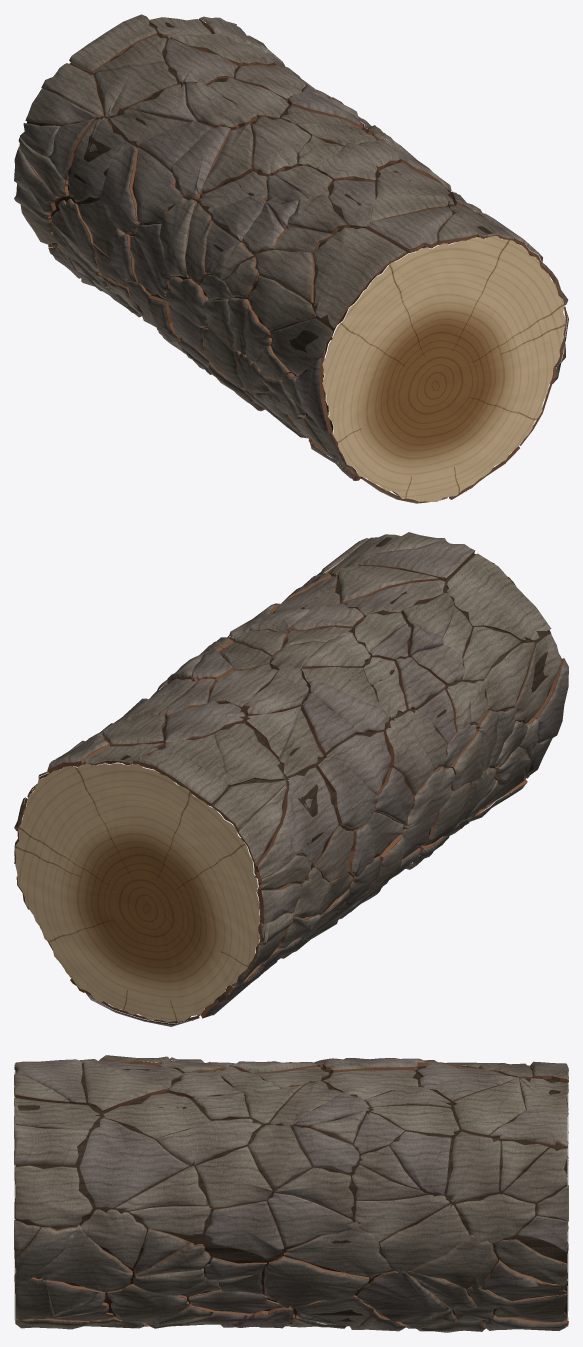
File: duskoak_log.glb
The picture shows the model from 3 angles, top to bottom: view 1: azimuth 30°, elevation 25°; view 2: azimuth 150°, elevation 25°; view 3: azimuth 270°, elevation 25°; orthographic projection. The views are drawn at different scales.
Visible parts, largest first — view 1: Duskoak flaky bark faces, Duskoak cut annual endgrain, Duskoak chipped bark fracture edges, Duskoak dark fibrous bark bed; view 2: Duskoak flaky bark faces, Duskoak cut annual endgrain, Duskoak chipped bark fracture edges, Duskoak dark fibrous bark bed; view 3: Duskoak flaky bark faces, Duskoak dark fibrous bark bed, Duskoak chipped bark fracture edges, Duskoak cut annual endgrain.
Part boxes in pixels (x1,y1,x2,y2): Duskoak flaky bark faces: (14,14,568,503); Duskoak cut annual endgrain: (322,236,565,501); Duskoak chipped bark fracture edges: (28,18,567,502); Duskoak dark fibrous bark bed: (25,22,533,497); Duskoak flaky bark faces: (14,532,568,1026); Duskoak cut annual endgrain: (15,763,260,1022); Duskoak chipped bark fracture edges: (14,551,564,1023); Duskoak dark fibrous bark bed: (41,537,560,1017); Duskoak flaky bark faces: (14,1055,568,1332); Duskoak dark fibrous bark bed: (15,1062,567,1324); Duskoak chipped bark fracture edges: (14,1060,568,1327); Duskoak cut annual endgrain: (14,1064,568,1321).
Size of the model in its own units: 0.2712 by 0.2672 by 0.5404.
Materials: 4 (3 with a texture image).
